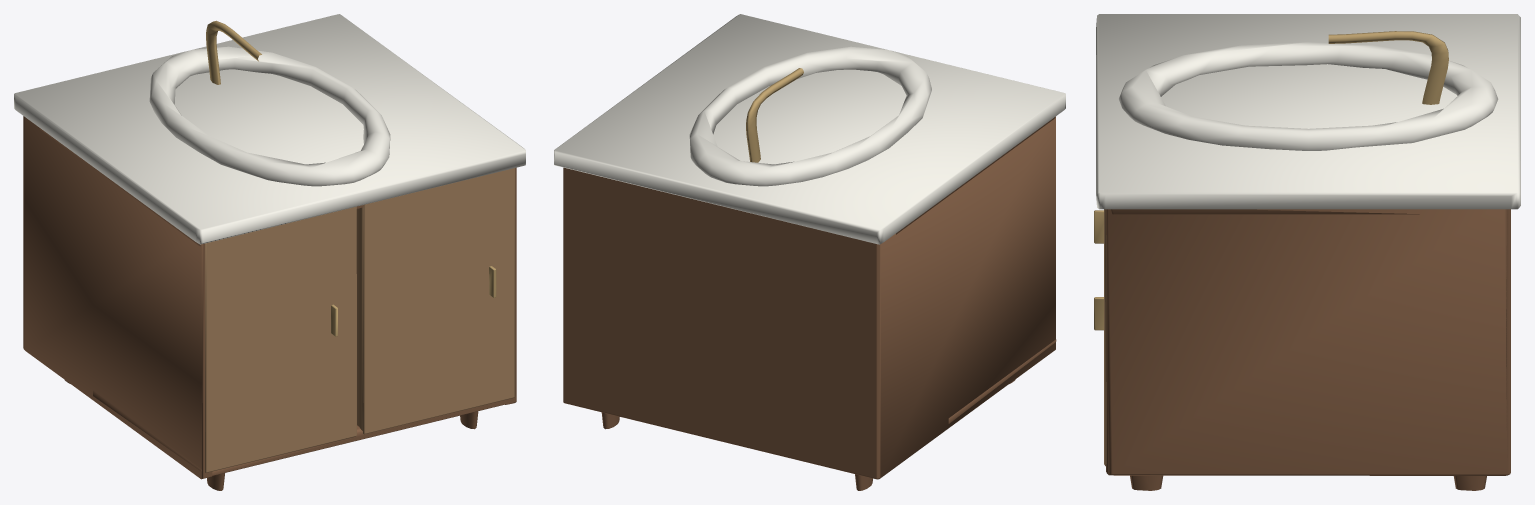
File: cabinet-3-5.lod.glb
The picture shows the model from 3 angles, left to right: view 1: azimuth 30°, elevation 25°; view 2: azimuth 150°, elevation 25°; view 3: azimuth 270°, elevation 25°; orthographic projection. The views are drawn at different scales.
Parts seen in each view (by area): view 1: upholstery (×2), worktop, part; view 2: part, worktop, upholstery; view 3: part, worktop, upholstery (×2).
Part boxes in pixels (<box>): upholstery (×2): <box>205,20,515,472</box>; worktop: <box>14,14,525,244</box>; part: <box>23,116,516,490</box>; part: <box>563,116,1056,490</box>; worktop: <box>554,14,1065,244</box>; upholstery: <box>746,68,803,162</box>; part: <box>1106,209,1510,490</box>; worktop: <box>1096,14,1520,209</box>; upholstery (×2): <box>1094,31,1448,466</box>.
Bounding box in the file's own units: 1 × 1 × 1.
